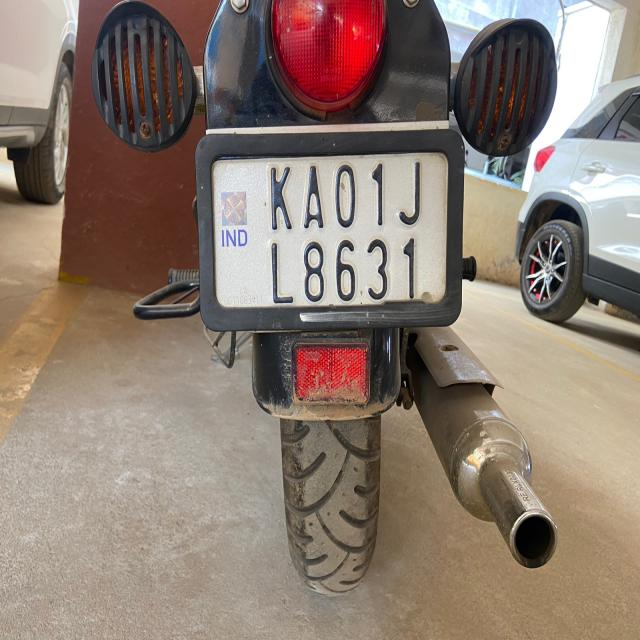0: (333, 162, 361, 234)
1: (400, 231, 424, 306), (367, 157, 390, 230)
3: (362, 228, 393, 304)
6: (332, 236, 361, 308)
8: (298, 238, 329, 305)
A: (299, 163, 325, 232)
J: (394, 157, 427, 230)
K: (265, 159, 297, 239)
L: (264, 231, 298, 309)
